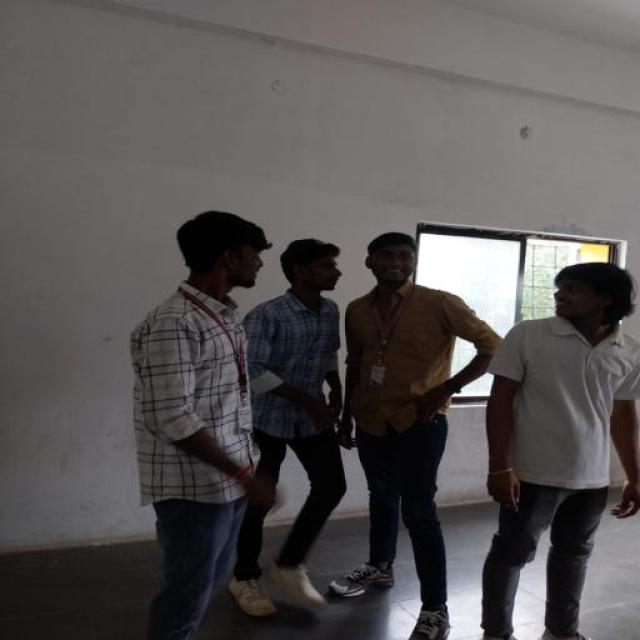id_card: (182, 280, 255, 440), (358, 285, 410, 395)
